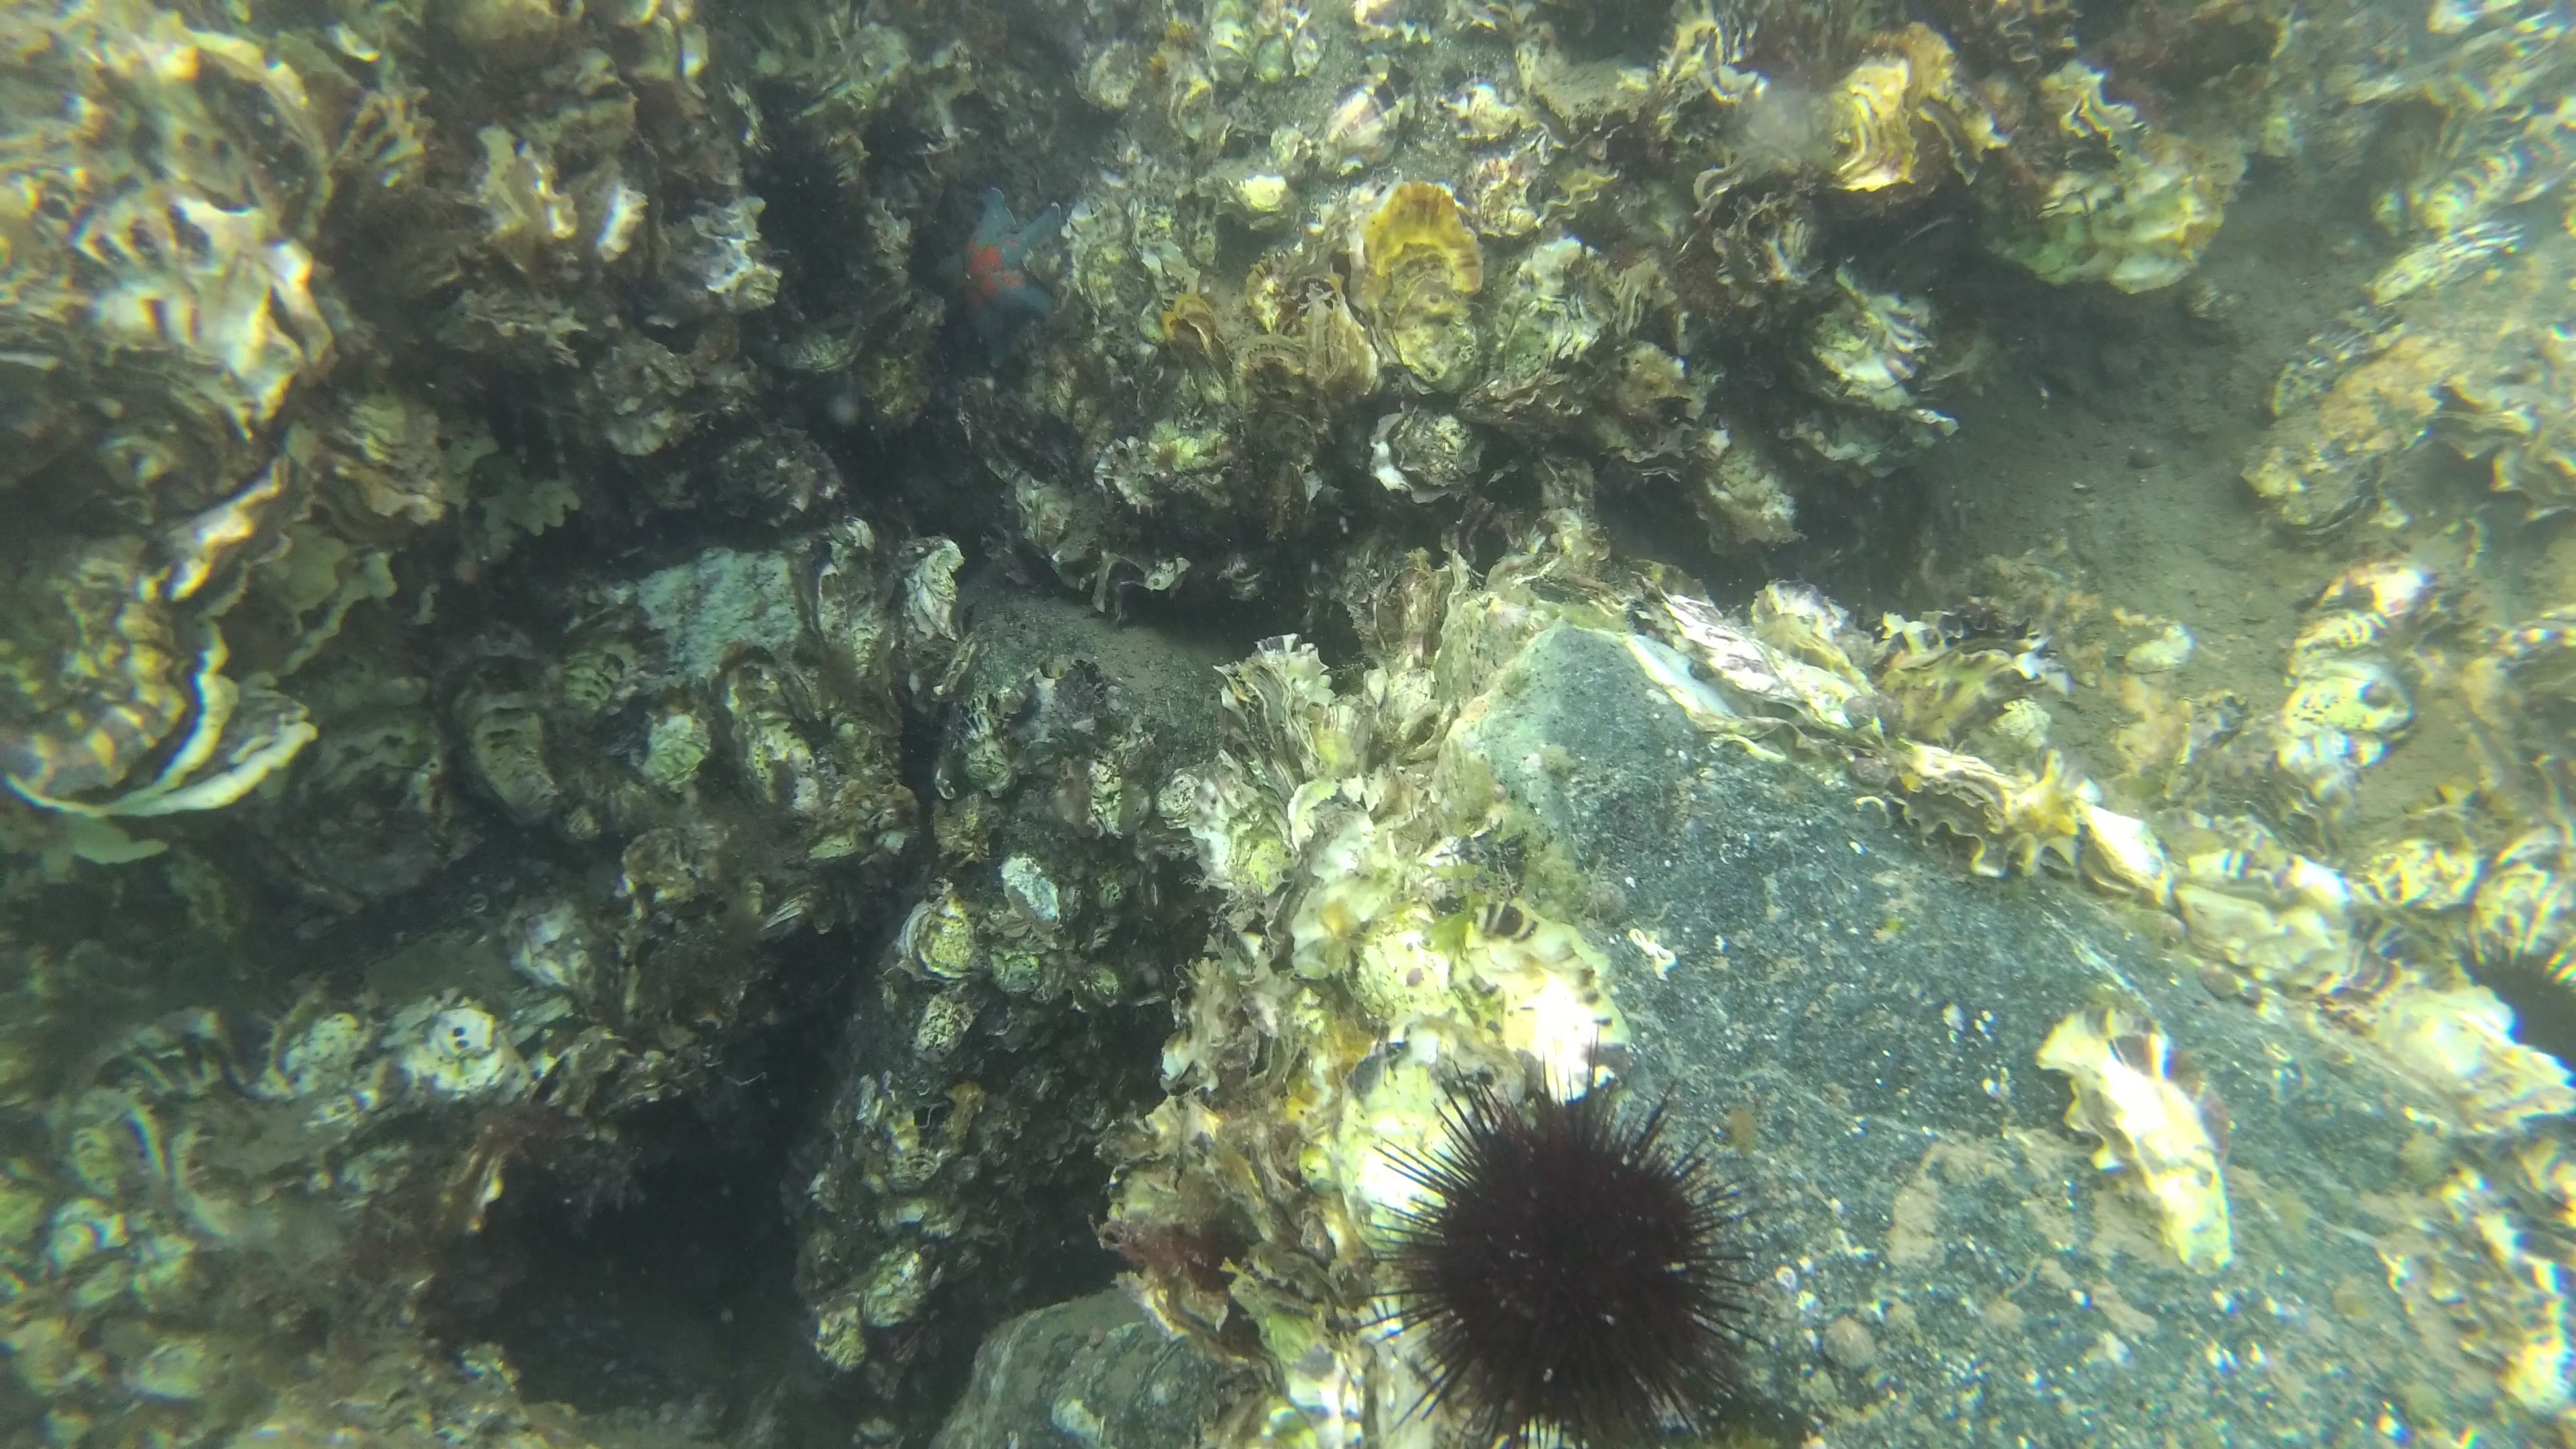echinus: (1350, 1063, 1757, 1449)
starfish: (927, 179, 1069, 363)
